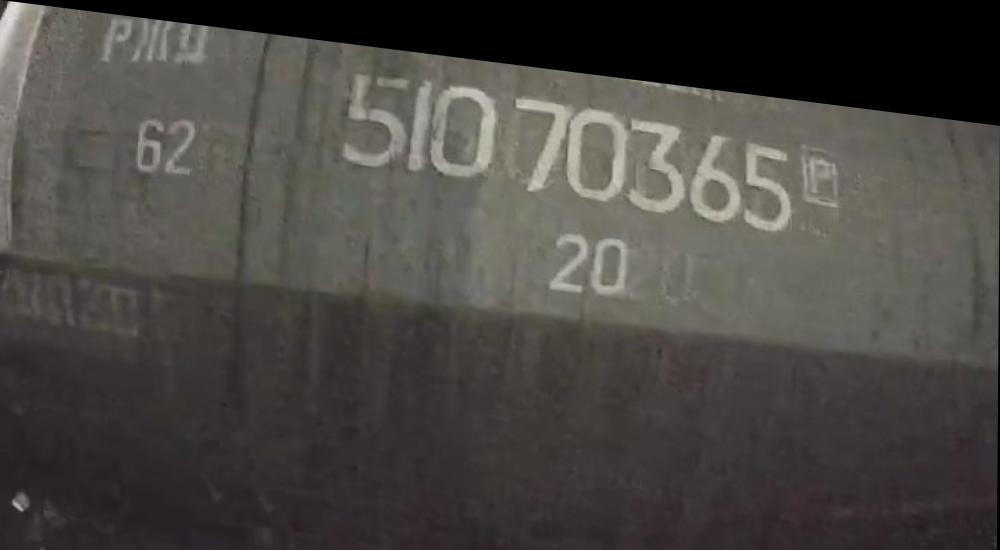Wagon-number: (331, 48, 802, 220)
